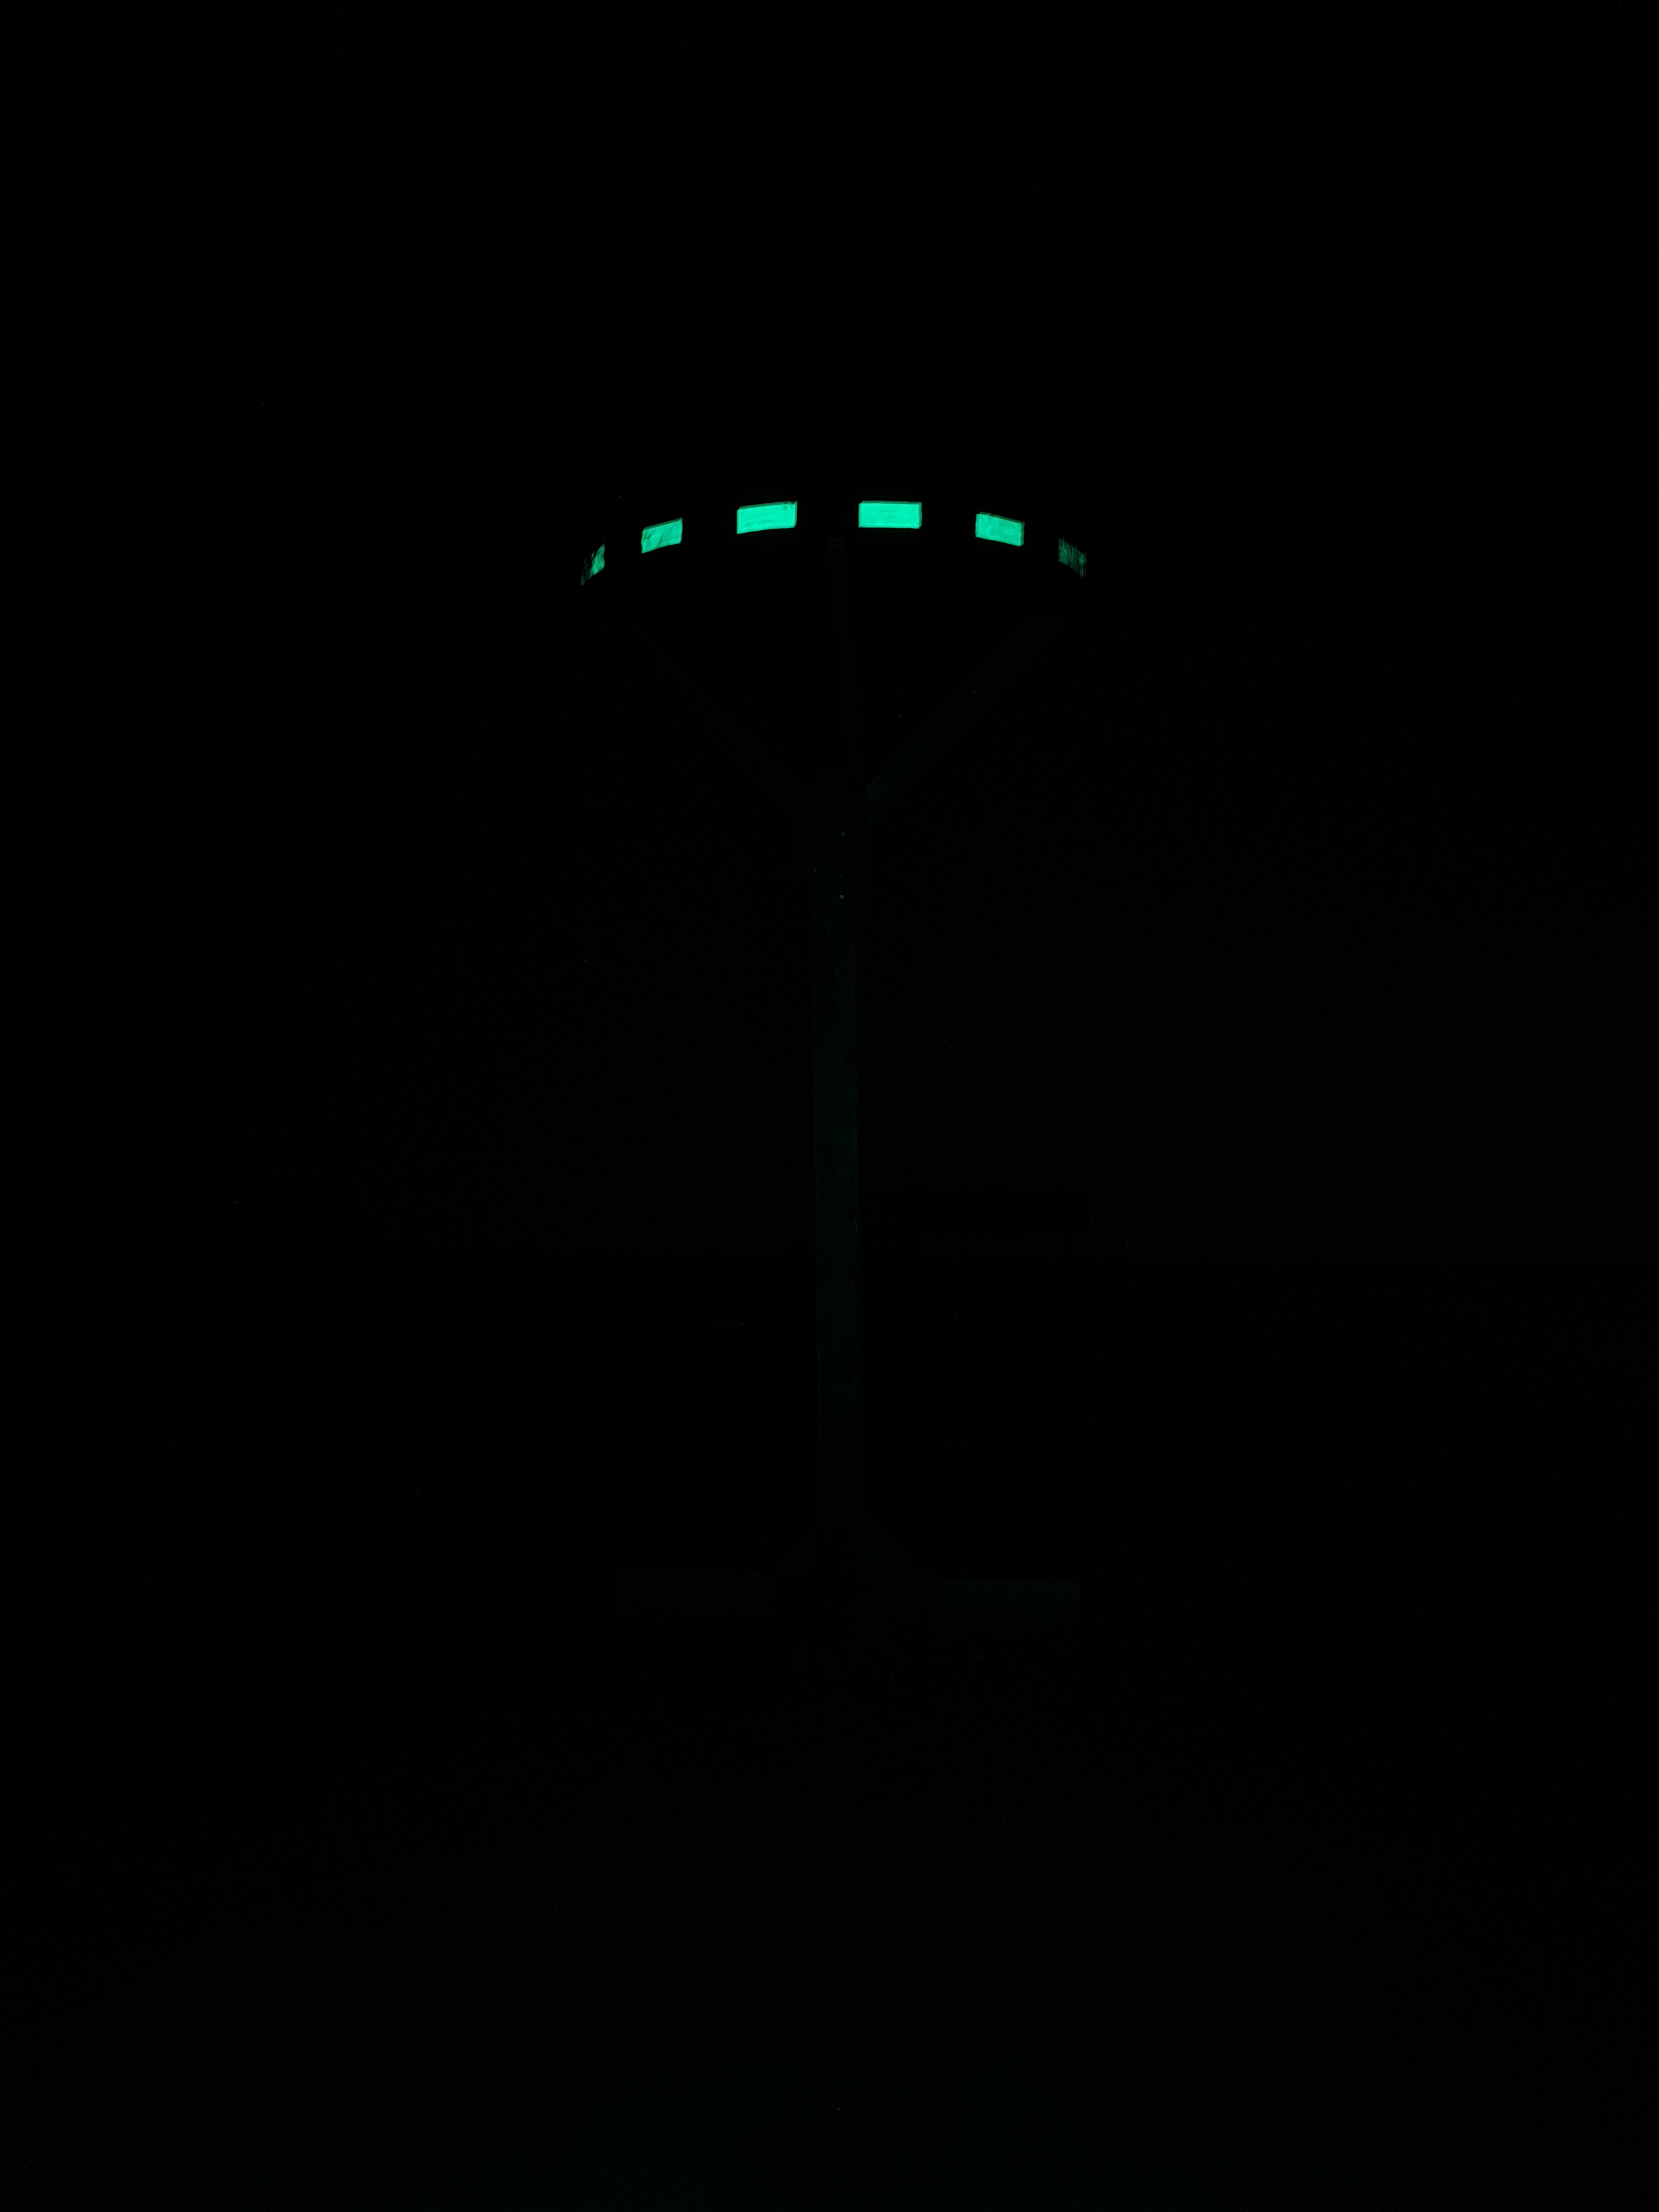hoop: (572, 491, 1100, 596)
